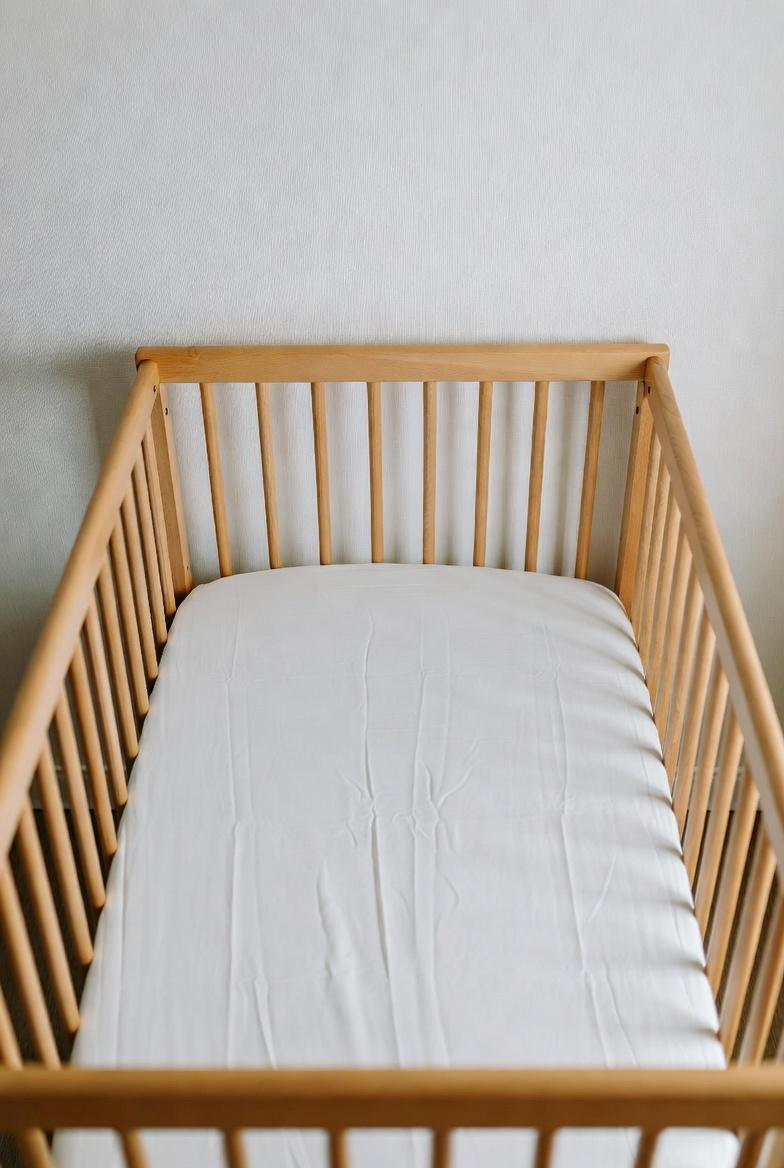crib: (0, 345, 784, 1168)
